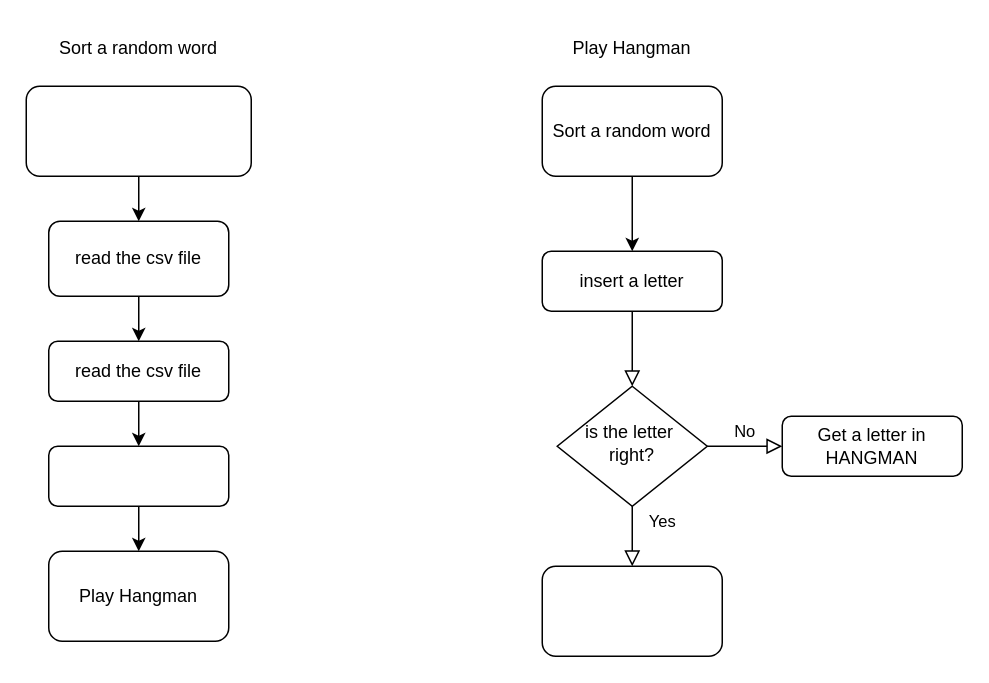
The diagram is 989 pixels wide and 683 high, and some of its shapes have lost their labels. The shapes that lost their labels are listed below. From the top down, each one's centre as x and y in pixels, then its label:
At (x=138, y=130): "Sort a random number between 0 and number of elements on words.csv".
At (x=138, y=475): "Get the i-th word".
At (x=631, y=610): "Get the right letter".
